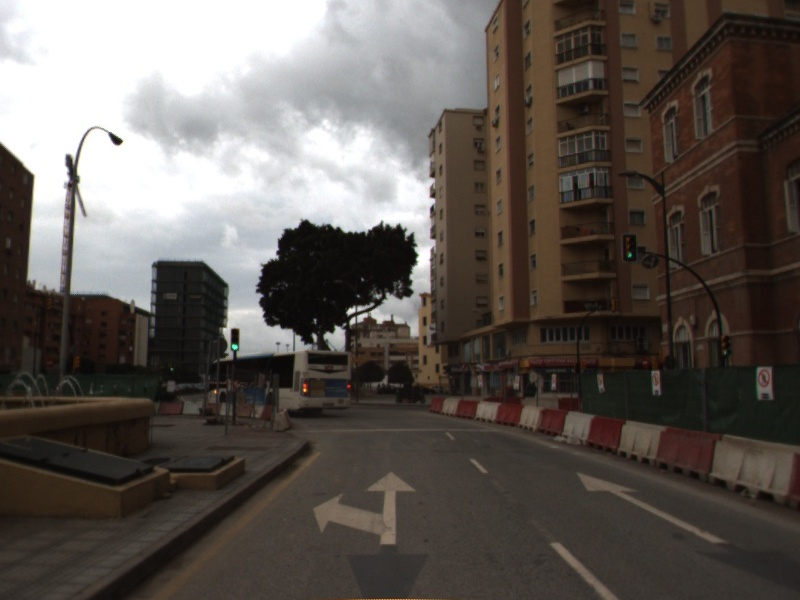STRAIGHT: (573, 469, 735, 546)
STRAIGHT_LEFT: (311, 468, 419, 546)
